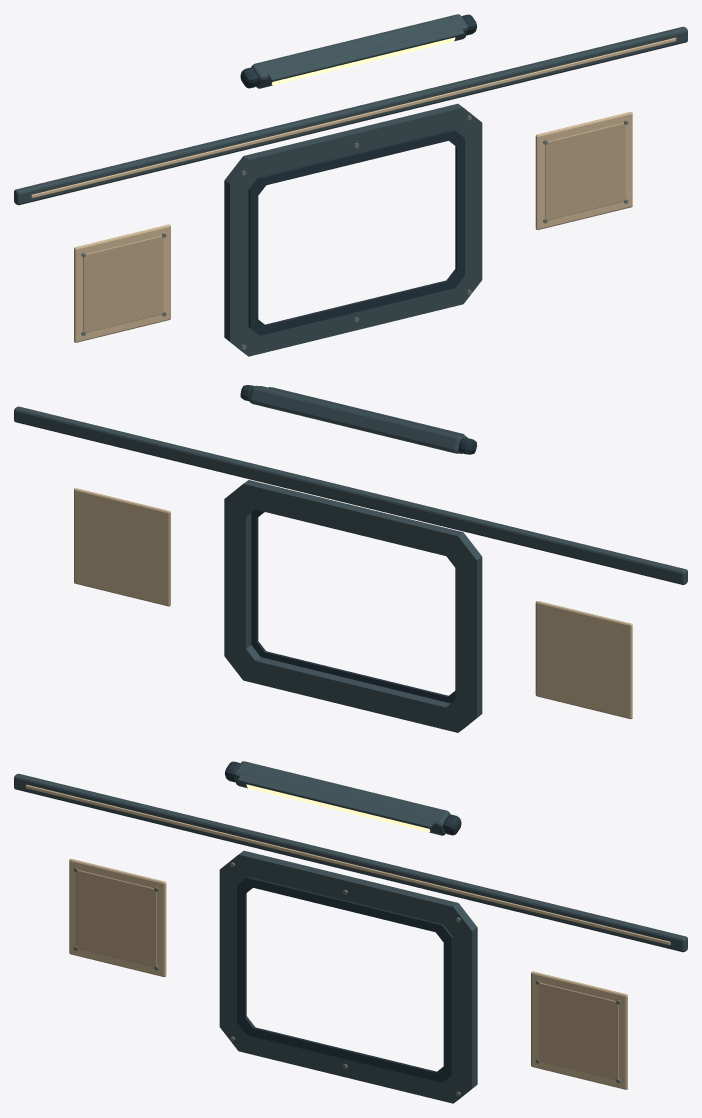
The model's file is cabin_front_trim.glb.
The picture shows the model from 3 angles, top to bottom: view 1: azimuth 30°, elevation 25°; view 2: azimuth 150°, elevation 25°; view 3: azimuth 330°, elevation 25°; orthographic projection.
Parts seen in each view (by area): view 1: cabin_front_trim; view 2: cabin_front_trim; view 3: cabin_front_trim.
Boxes of the visible parts, <box> form: cabin_front_trim: <box>14,14,687,356</box>; cabin_front_trim: <box>14,385,687,732</box>; cabin_front_trim: <box>14,761,687,1103</box>.
Size of the model in its own units: 2.5 by 1.04 by 0.127.
